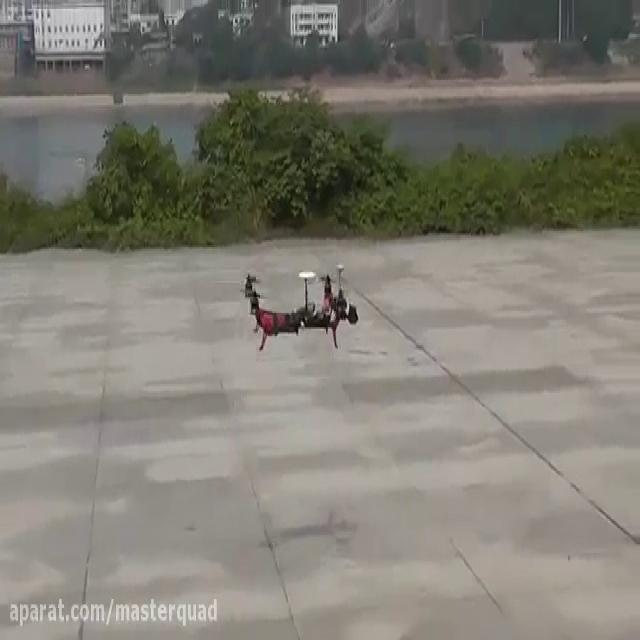drone: (234, 256, 360, 354)
